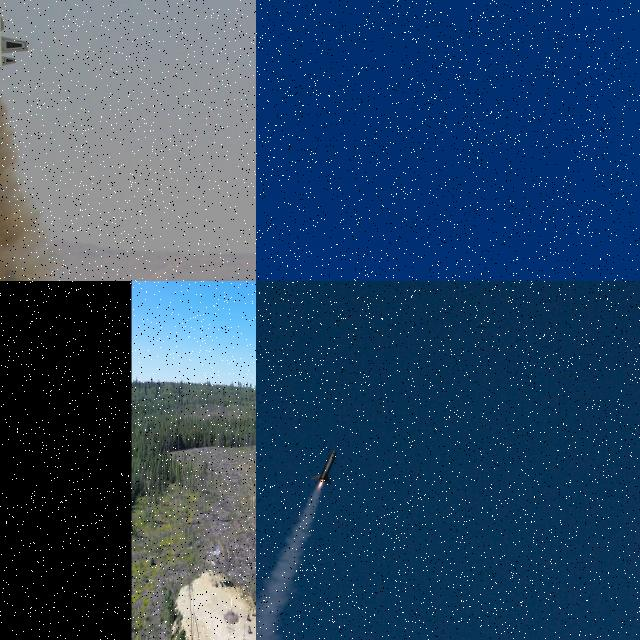Rocket: (310, 449, 338, 485), (231, 593, 232, 599)
